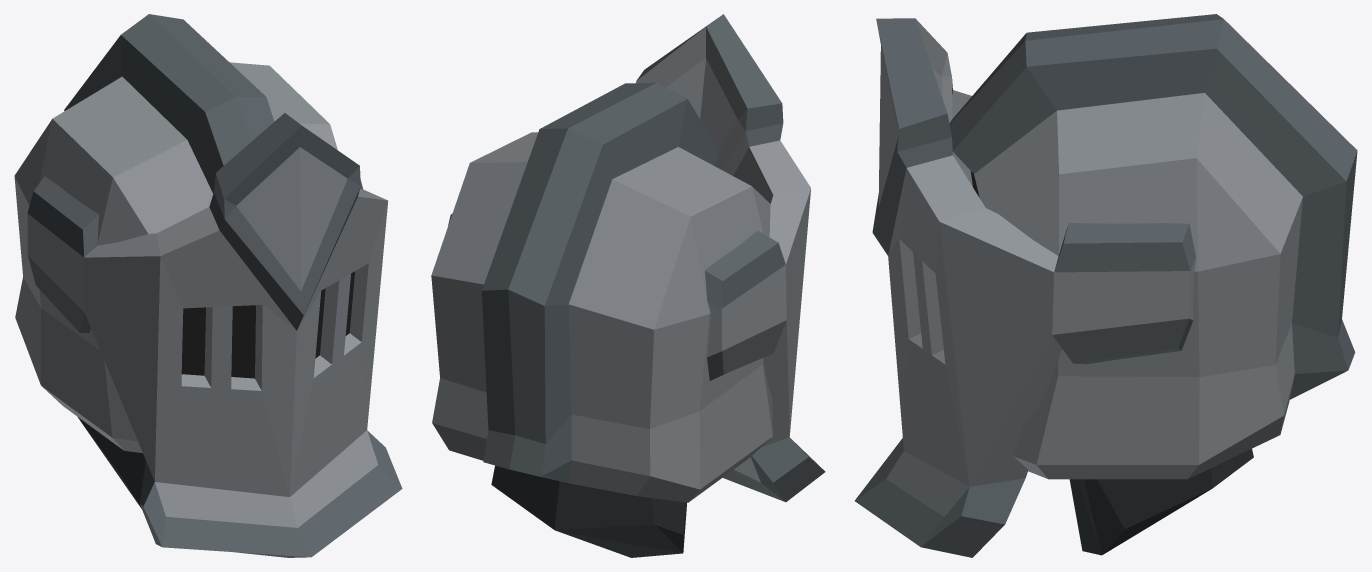
The model's file is Chr_Head_No_Elements_Female_02_Static.fbx.
3 renders of one model, left to right at view 1: azimuth 30°, elevation 25°; view 2: azimuth 150°, elevation 25°; view 3: azimuth 270°, elevation 25°, orthographic. The views are drawn at different scales.
Parts seen in each view (by area): view 1: Chr_Head_No_Elements_Female_02_Static; view 2: Chr_Head_No_Elements_Female_02_Static; view 3: Chr_Head_No_Elements_Female_02_Static.
Boxes of the visible parts, bbox=[...] form: Chr_Head_No_Elements_Female_02_Static: bbox=[14, 14, 402, 557]; Chr_Head_No_Elements_Female_02_Static: bbox=[431, 14, 825, 557]; Chr_Head_No_Elements_Female_02_Static: bbox=[855, 14, 1357, 557].
Size of the model in its own units: 0.2549 by 0.4093 by 0.3503.
